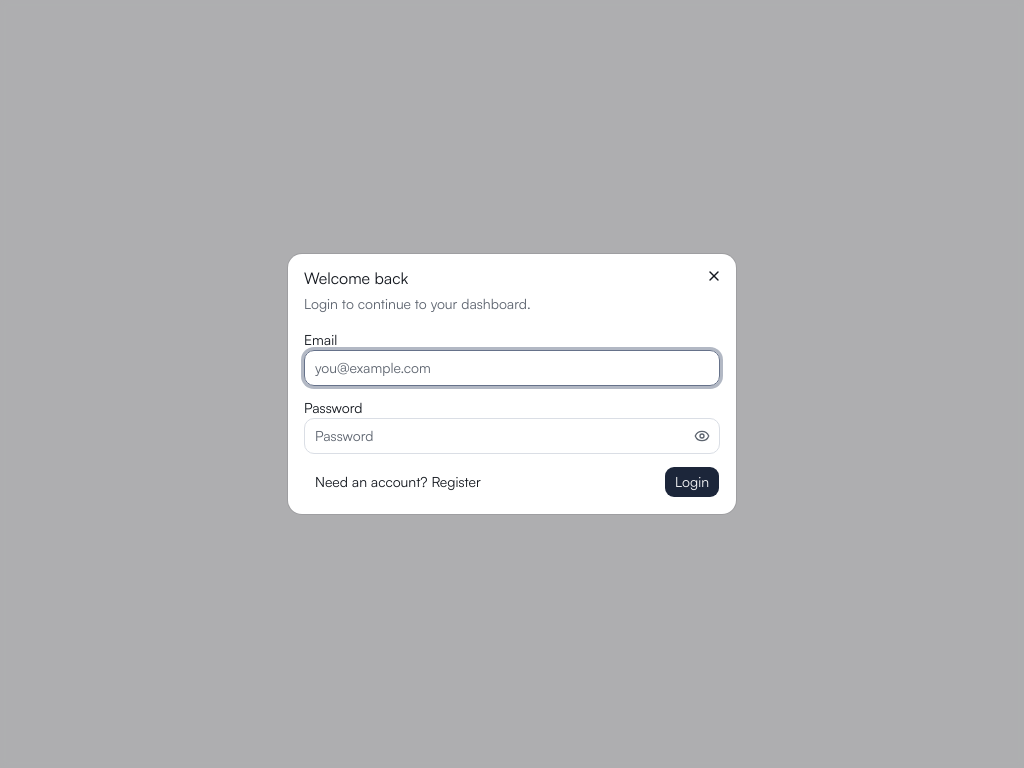
Test case: AuthDialog › validates email format on login
In the field labelled "Email": coordinates (512, 368) [304,350,720,386], type "not-an-email"
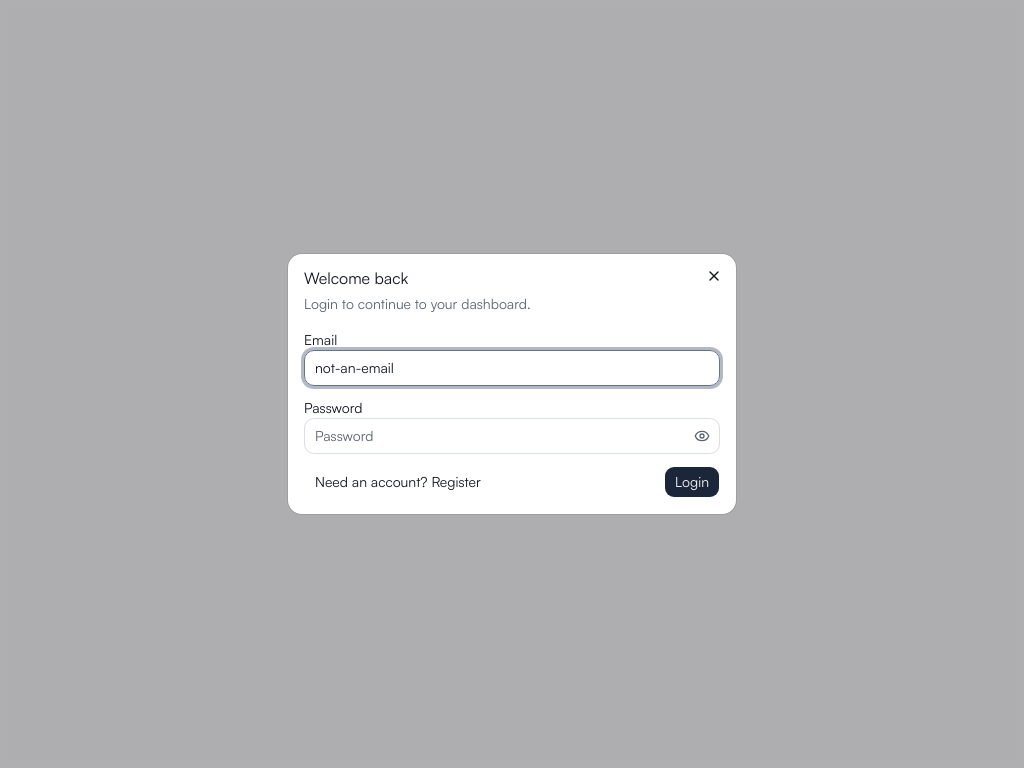
In the password field labelled "Password": coordinates (512, 436) [304,418,720,454], type "abcdef"
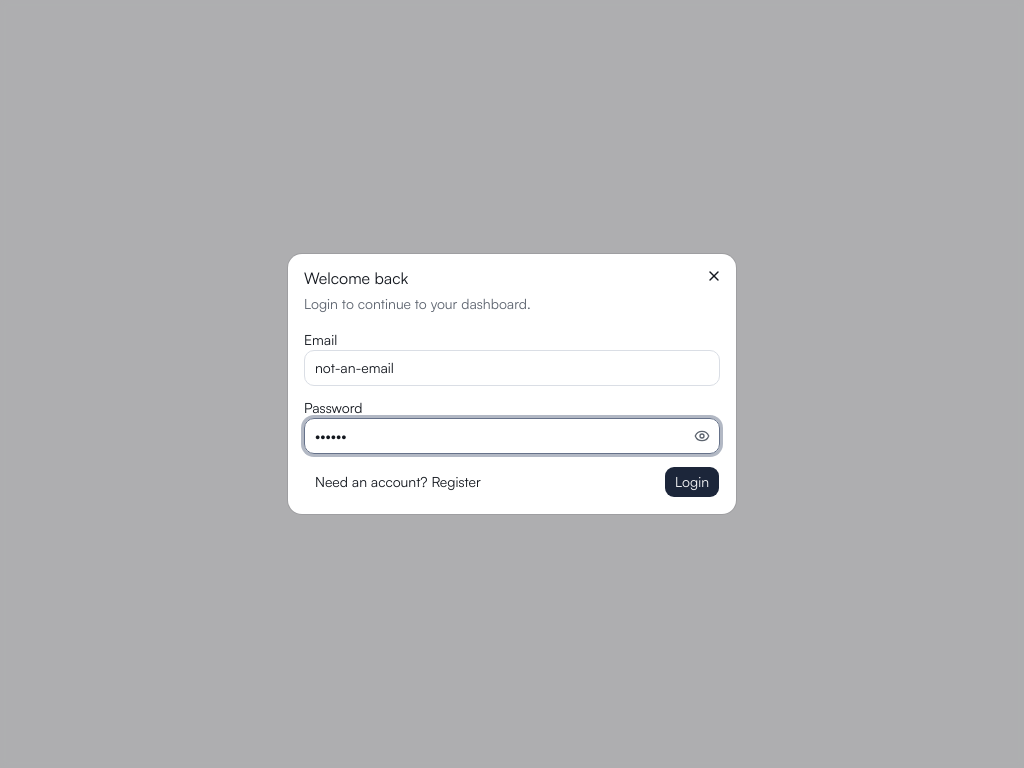
Click the button "Login": coordinates (692, 482) [664,466,720,498]
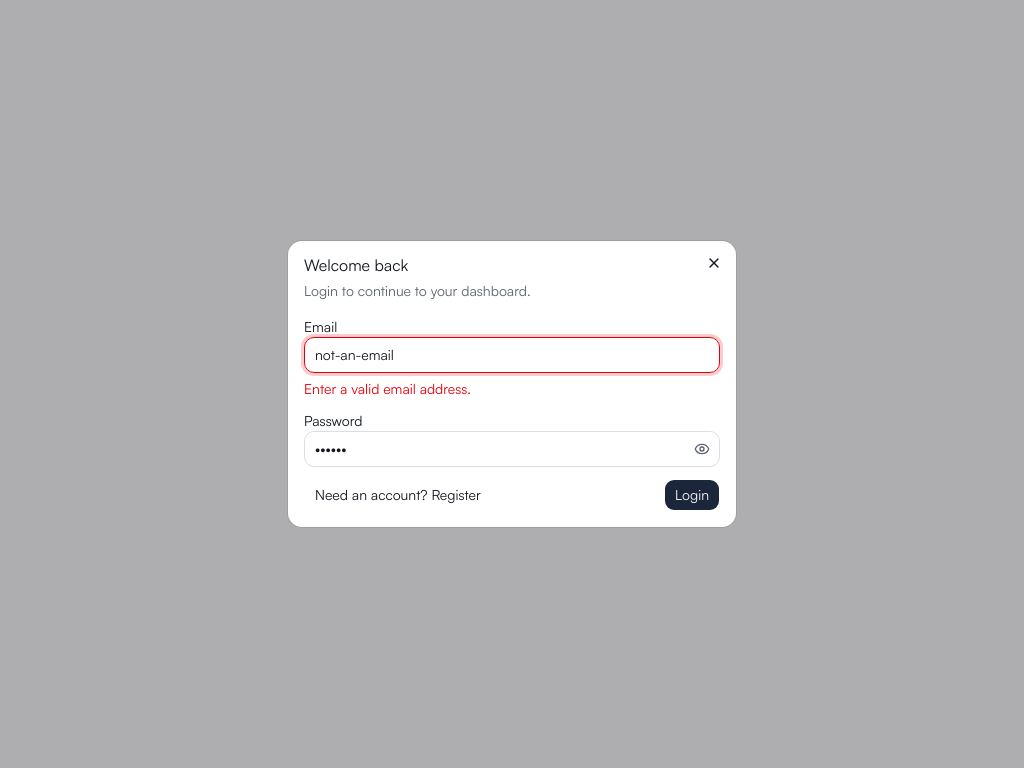
Expected: the text "Enter a valid email address." is shown, [304,380,471,397]
